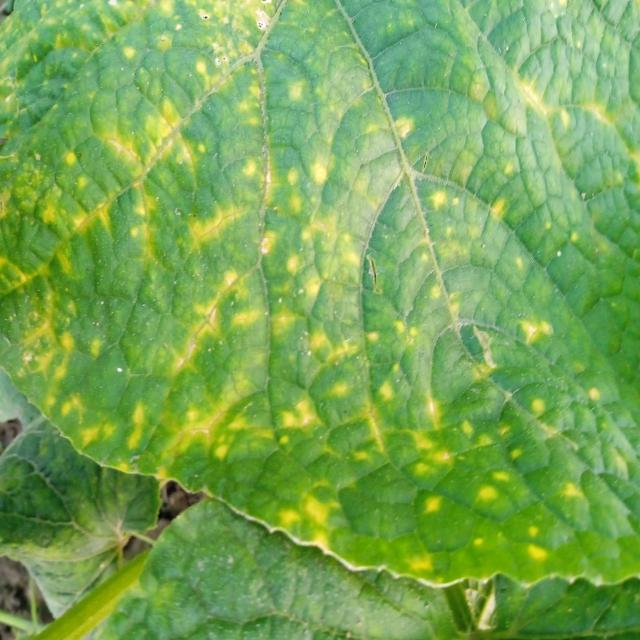cucumber_downy: (5, 0, 640, 557)
